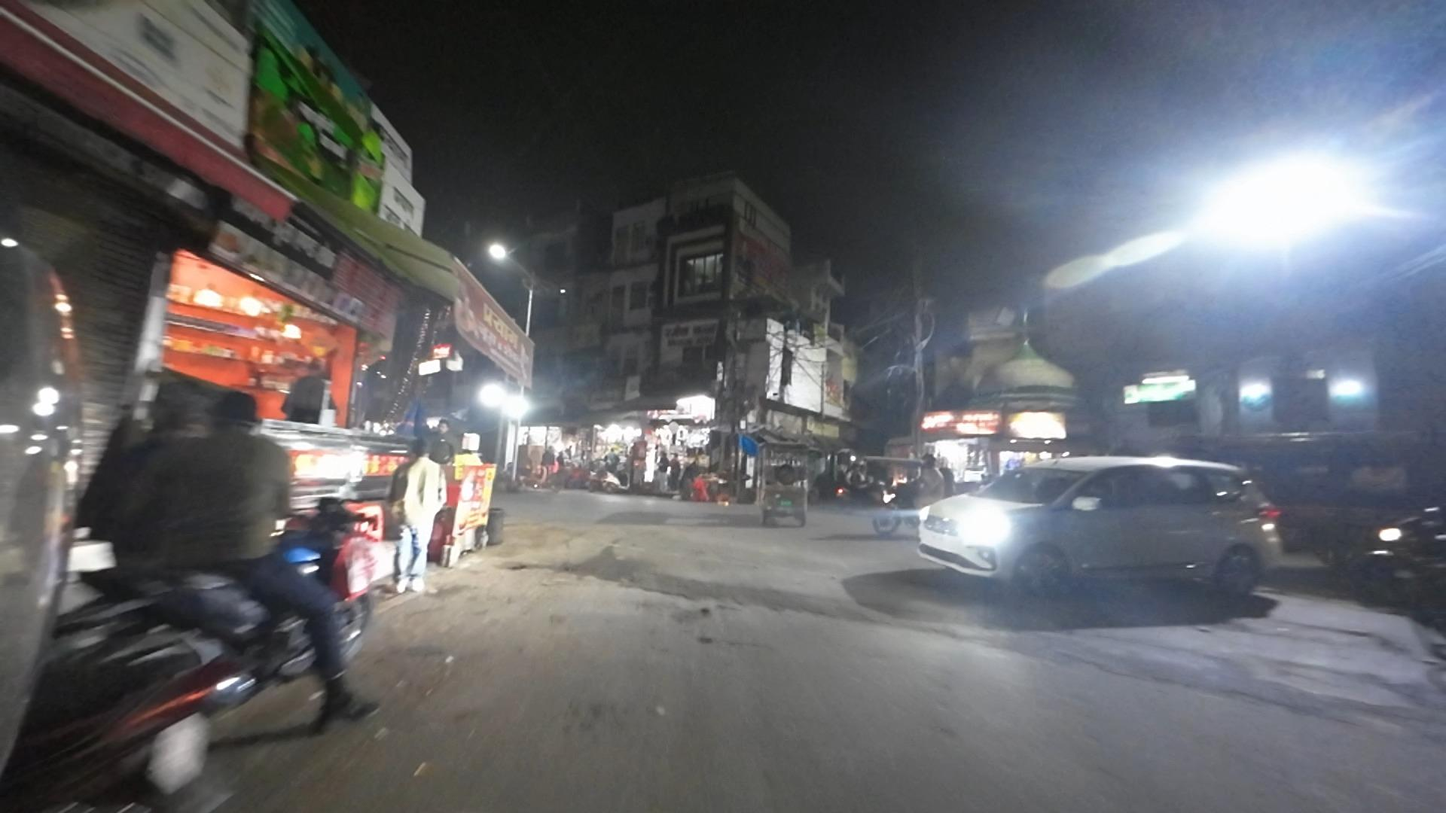streetlight: (535, 273, 568, 295)
